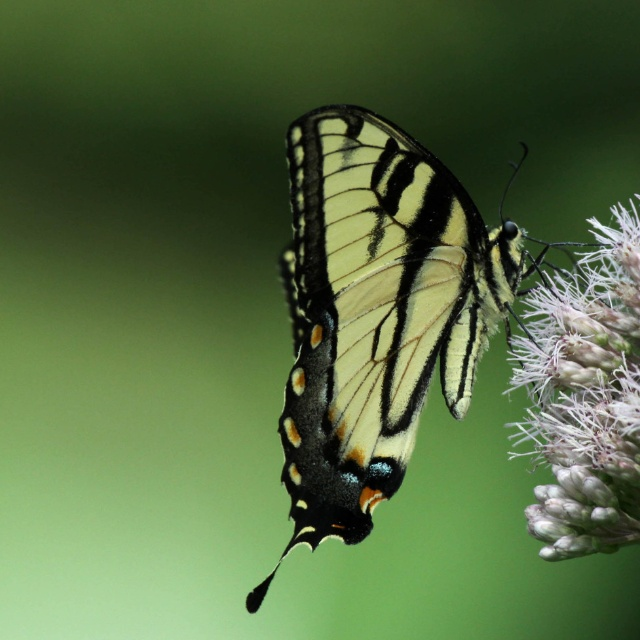Butterfly: (231, 110, 545, 588)
